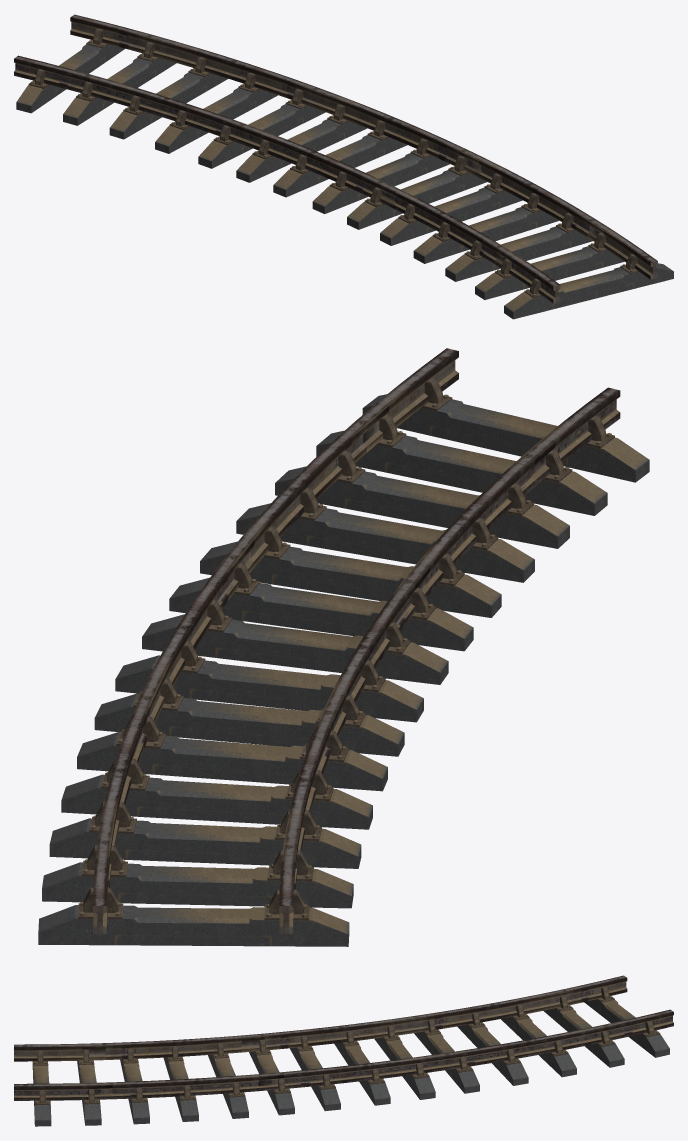
Rendered from SM_Tracks12mBend30.FBX.
3 renders of one model, top to bottom at view 1: azimuth 30°, elevation 25°; view 2: azimuth 150°, elevation 25°; view 3: azimuth 270°, elevation 25°, orthographic. The views are drawn at different scales.
Visible parts, largest first — view 1: SM_Tracks12mBend30; view 2: SM_Tracks12mBend30; view 3: SM_Tracks12mBend30.
Part boxes in pixels (box(x1,y1,x2,y2)): SM_Tracks12mBend30: box(14, 14, 673, 319); SM_Tracks12mBend30: box(38, 348, 649, 946); SM_Tracks12mBend30: box(14, 975, 673, 1126).
Bounding box in the file's own units: 552 × 1191 × 56.
